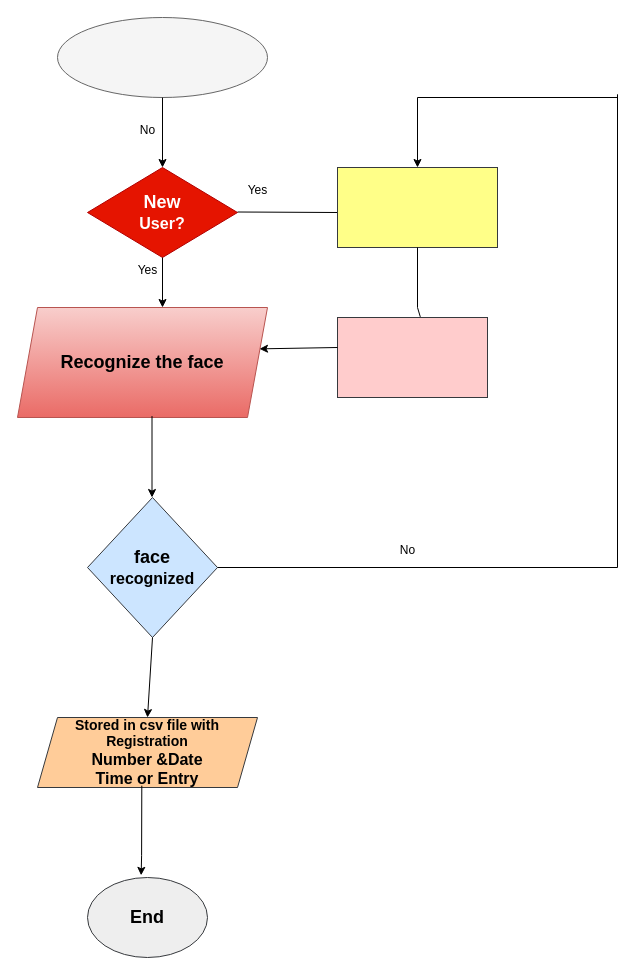
Some shapes in this 636 by 975 pixel diagram are drawn without their labels. Here are the shapes that lost their labels. From the top down, the centre of each, then its label:
the point at 162,57: start
the point at 417,207: Give your photographer
the point at 412,357: store the face data in folder on your name
